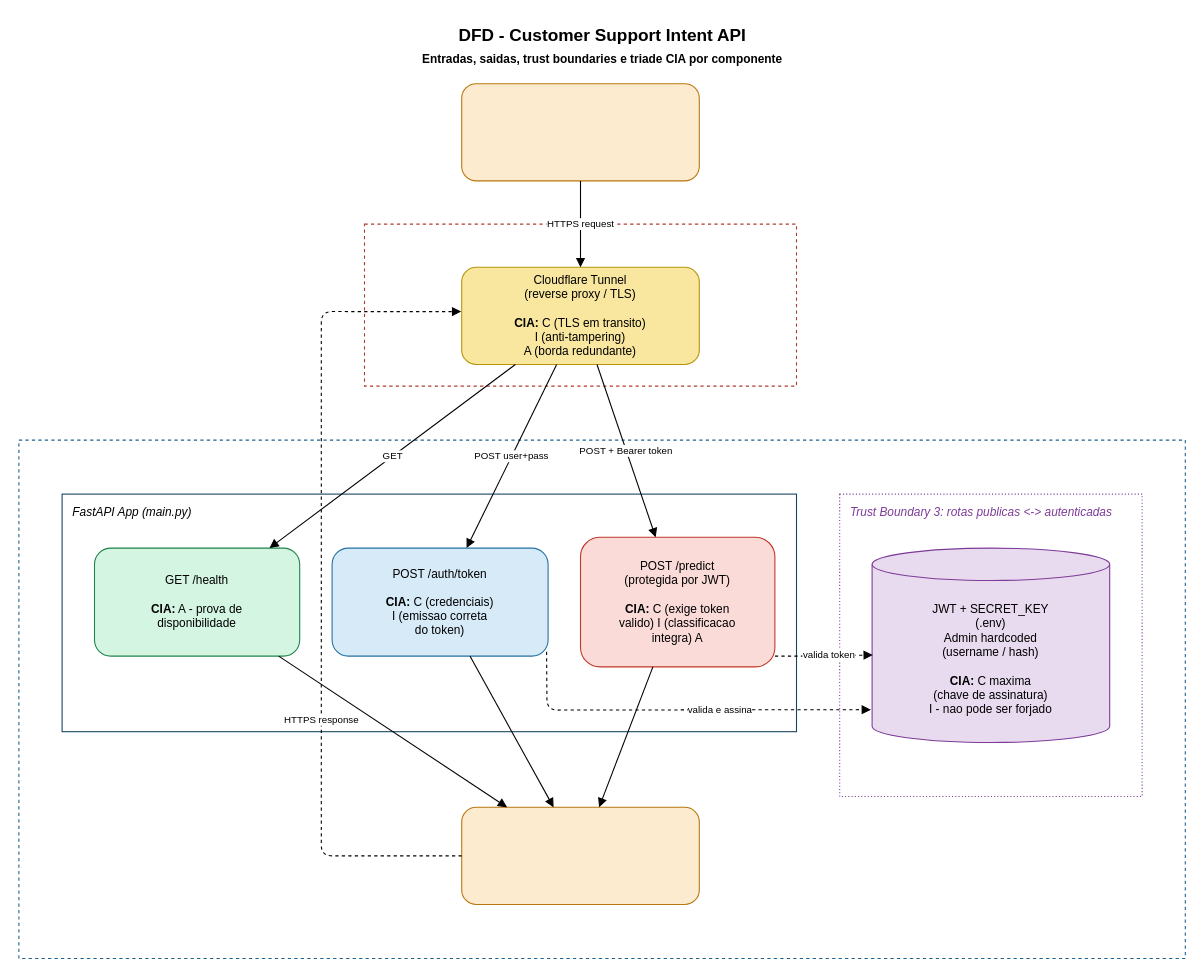
Some shapes in this 1204 by 977 pixel diagram are drawn without their labels. Each missing label, with the box of its shape:
Cliente / App (usuario final) CIA: I - envia texto integro do ticket: (461, 83, 699, 181)
Resposta JSON (status / token / intencao) CIA: I - integridade da resposta: (461, 806, 699, 905)
Trust Boundary 1: Internet pública <-> Borda (Cloudflare): (363, 223, 796, 386)
Trust Boundary 2: Borda <-> Raspberry Pi (rede local / dispositivo): (18, 439, 1185, 959)
